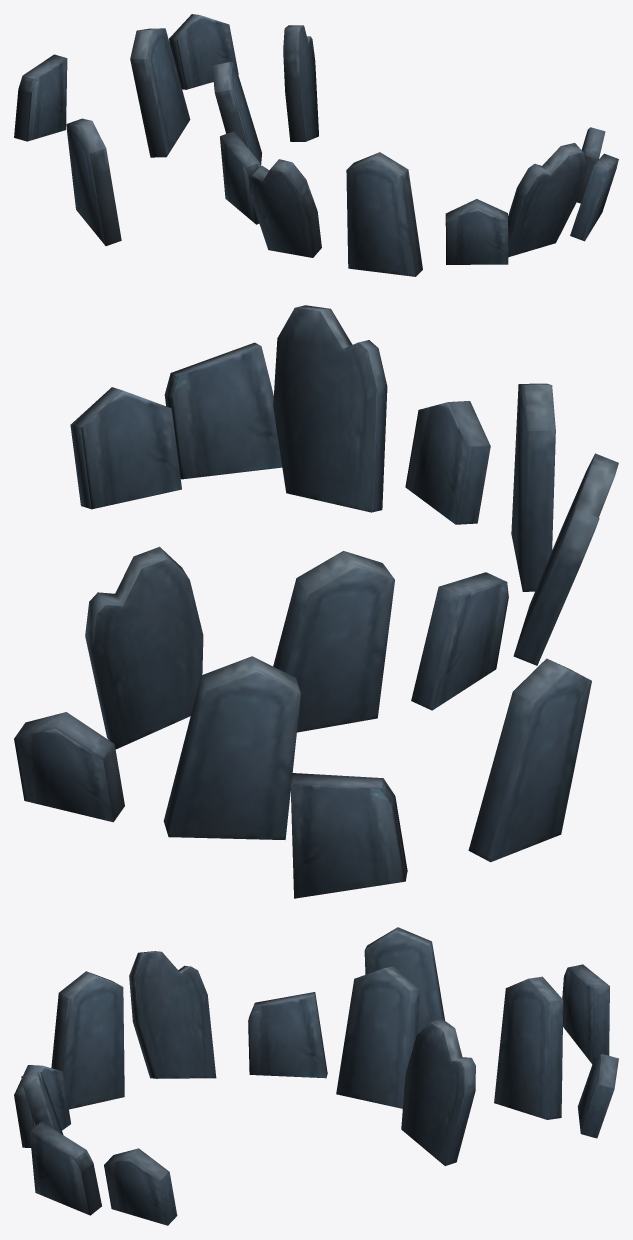
Rendered from Area_13_34.fbx.
3 views of the same model, one above another, from view 1: azimuth 30°, elevation 25°; view 2: azimuth 150°, elevation 25°; view 3: azimuth 270°, elevation 25° (orthographic). The views are drawn at different scales.
Visible parts, largest first — view 1: Area_13_34; view 2: Area_13_34; view 3: Area_13_34.
Boxes of the visible parts, box(x1,y1,x2,y2) form: Area_13_34: box(14, 14, 618, 276); Area_13_34: box(14, 305, 618, 898); Area_13_34: box(14, 927, 618, 1225).
Bounding box in the file's own units: 1092 × 374 × 1255.
